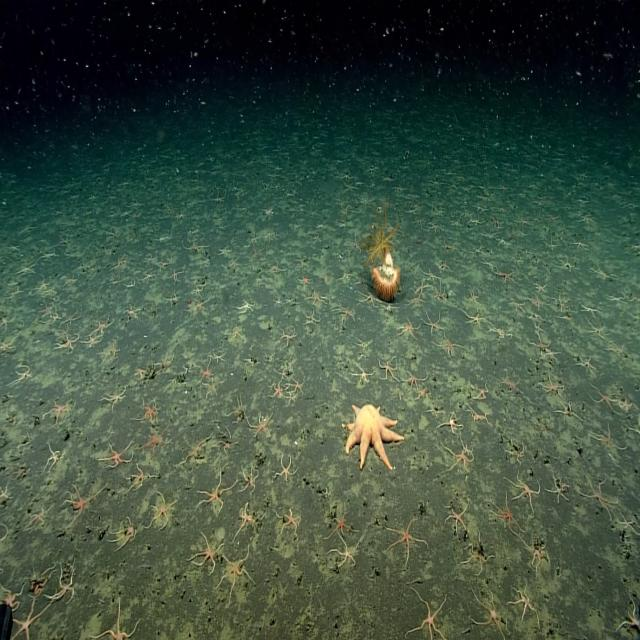brittle-stars: (407, 592, 448, 640), (384, 518, 423, 562), (473, 591, 508, 640), (580, 473, 615, 518), (98, 604, 141, 640), (219, 550, 252, 595), (199, 471, 235, 512), (12, 600, 47, 640), (511, 584, 541, 626), (511, 473, 541, 511), (464, 532, 491, 574), (493, 496, 520, 536), (193, 535, 222, 572), (66, 484, 94, 522), (331, 536, 361, 570), (150, 493, 177, 530), (55, 562, 78, 603), (103, 440, 134, 470), (184, 436, 210, 469), (142, 426, 170, 456), (591, 422, 619, 452), (445, 446, 474, 474), (447, 502, 470, 537), (277, 508, 301, 539), (328, 511, 354, 539), (113, 517, 135, 550), (28, 502, 52, 532), (622, 596, 640, 636), (0, 583, 24, 612), (526, 542, 549, 572), (236, 504, 256, 538), (591, 382, 615, 410), (350, 329, 379, 352), (549, 470, 569, 502), (180, 236, 213, 255), (251, 413, 274, 440), (159, 289, 185, 312), (130, 466, 152, 492), (276, 454, 296, 481), (138, 400, 160, 424), (379, 356, 400, 381), (242, 464, 260, 492), (47, 446, 66, 472), (540, 375, 562, 397), (438, 336, 460, 358), (50, 401, 72, 423), (103, 387, 126, 408), (57, 333, 79, 354), (294, 253, 314, 276), (217, 427, 234, 454), (579, 352, 598, 376), (557, 402, 578, 423), (425, 400, 446, 421), (423, 311, 443, 333), (468, 406, 490, 426), (593, 264, 615, 284), (620, 512, 638, 536), (155, 352, 173, 376), (31, 574, 49, 598), (95, 313, 115, 334), (443, 412, 463, 433), (248, 242, 268, 263), (401, 318, 420, 340), (502, 372, 520, 395), (464, 308, 484, 328), (405, 370, 425, 390), (63, 306, 83, 326), (491, 322, 511, 342), (530, 333, 550, 353), (232, 395, 248, 420), (352, 363, 373, 382), (240, 350, 258, 372), (509, 441, 526, 463), (338, 302, 356, 322), (260, 226, 278, 246), (104, 341, 120, 363), (359, 289, 378, 307), (470, 380, 487, 400), (14, 365, 31, 385), (38, 299, 54, 320), (582, 302, 600, 320), (496, 268, 515, 285), (588, 321, 607, 338), (34, 274, 50, 294), (338, 265, 354, 285), (199, 359, 214, 380), (0, 480, 12, 506), (611, 343, 628, 361), (206, 376, 222, 395), (279, 329, 296, 346), (556, 295, 573, 312), (85, 334, 103, 350), (559, 256, 575, 274), (0, 338, 16, 356), (308, 289, 327, 304), (13, 462, 28, 481), (270, 380, 284, 400), (0, 521, 9, 552), (238, 300, 256, 315), (0, 313, 15, 331), (126, 304, 140, 323), (620, 394, 634, 413), (193, 298, 209, 314), (528, 296, 544, 312), (546, 347, 562, 363), (528, 314, 544, 330), (123, 274, 139, 290), (488, 215, 504, 231), (290, 377, 304, 395), (435, 283, 448, 302), (570, 238, 587, 252), (19, 264, 36, 278), (579, 212, 596, 226), (306, 310, 320, 327), (609, 292, 626, 306), (212, 187, 226, 203), (347, 236, 361, 252), (65, 272, 79, 288), (270, 261, 284, 276), (424, 269, 438, 284), (512, 299, 526, 314), (299, 274, 314, 288), (229, 257, 242, 273), (409, 293, 425, 306), (417, 386, 430, 402), (468, 287, 480, 304), (336, 249, 346, 269), (534, 281, 548, 295), (212, 350, 226, 364), (170, 269, 183, 284), (142, 270, 155, 285), (470, 242, 485, 255), (115, 254, 128, 268), (468, 215, 482, 228), (384, 303, 398, 316), (414, 282, 428, 295), (483, 259, 497, 272), (232, 324, 242, 342), (136, 364, 148, 379), (191, 282, 202, 298), (633, 417, 640, 442), (218, 244, 231, 257), (438, 261, 451, 274), (443, 240, 456, 253), (7, 242, 21, 254), (278, 365, 289, 380), (482, 230, 497, 241), (144, 252, 156, 265), (450, 216, 463, 228), (497, 236, 510, 248), (285, 392, 296, 406), (51, 308, 62, 322), (632, 308, 640, 327), (0, 554, 6, 578), (476, 202, 488, 214), (548, 237, 560, 249), (159, 260, 171, 272), (576, 196, 588, 208), (548, 212, 561, 223), (274, 294, 284, 308), (630, 241, 640, 255), (178, 208, 188, 222), (312, 233, 322, 246), (345, 181, 356, 192), (266, 206, 276, 218), (437, 206, 447, 217), (384, 173, 393, 184)
